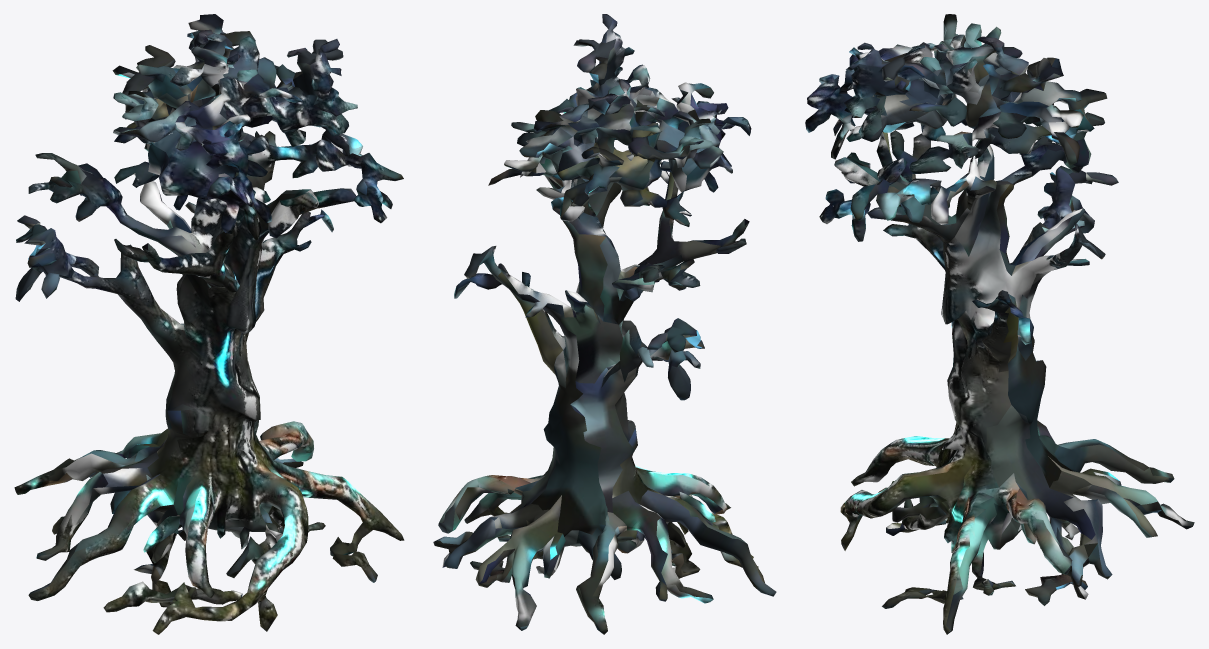
Rendered from tree_blue.glb.
3 renders of one model, left to right at view 1: azimuth 30°, elevation 25°; view 2: azimuth 150°, elevation 25°; view 3: azimuth 270°, elevation 25°, orthographic. The views are drawn at different scales.
Visible parts, largest first — view 1: geometry_0; view 2: geometry_0; view 3: geometry_0.
Part boxes in pixels (left/top/right/bottom): geometry_0: left=14, top=14, right=404, bottom=634; geometry_0: left=433, top=14, right=776, bottom=634; geometry_0: left=805, top=14, right=1194, bottom=634.
Size of the model in its own units: 1.33 by 1.99 by 1.29.
Materials: 1 (1 with a texture image).
